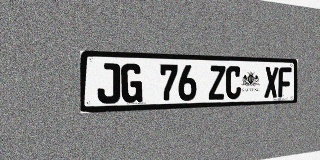6: (178, 65, 197, 101)
7: (158, 64, 178, 102)
C: (225, 66, 241, 99)
F: (278, 67, 291, 97)
G: (121, 63, 142, 103)
J: (97, 63, 120, 104)
X: (264, 67, 278, 98)
Z: (209, 65, 225, 100)
